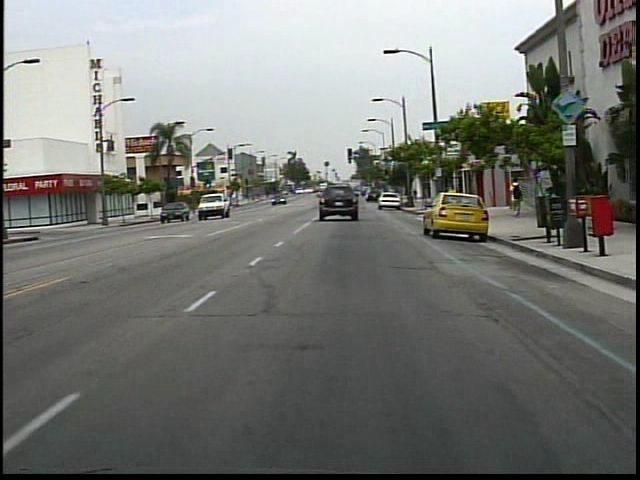person: (504, 174, 528, 222)
